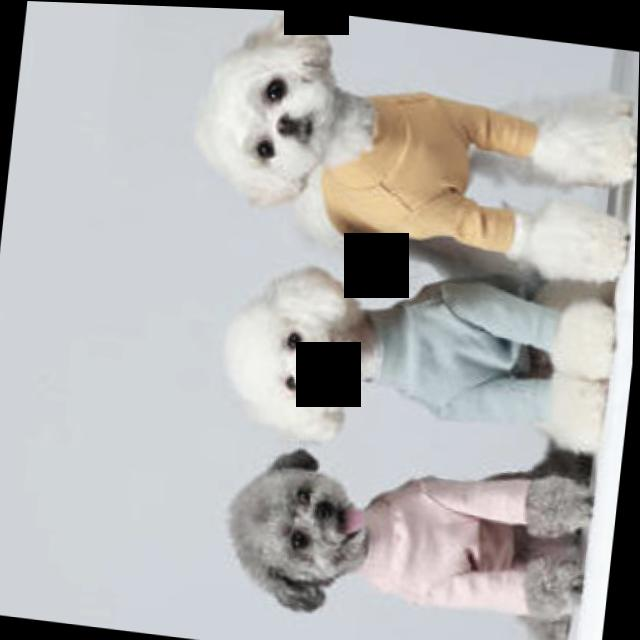cloth: (323, 89, 537, 247), (372, 277, 559, 420), (362, 473, 531, 608)
